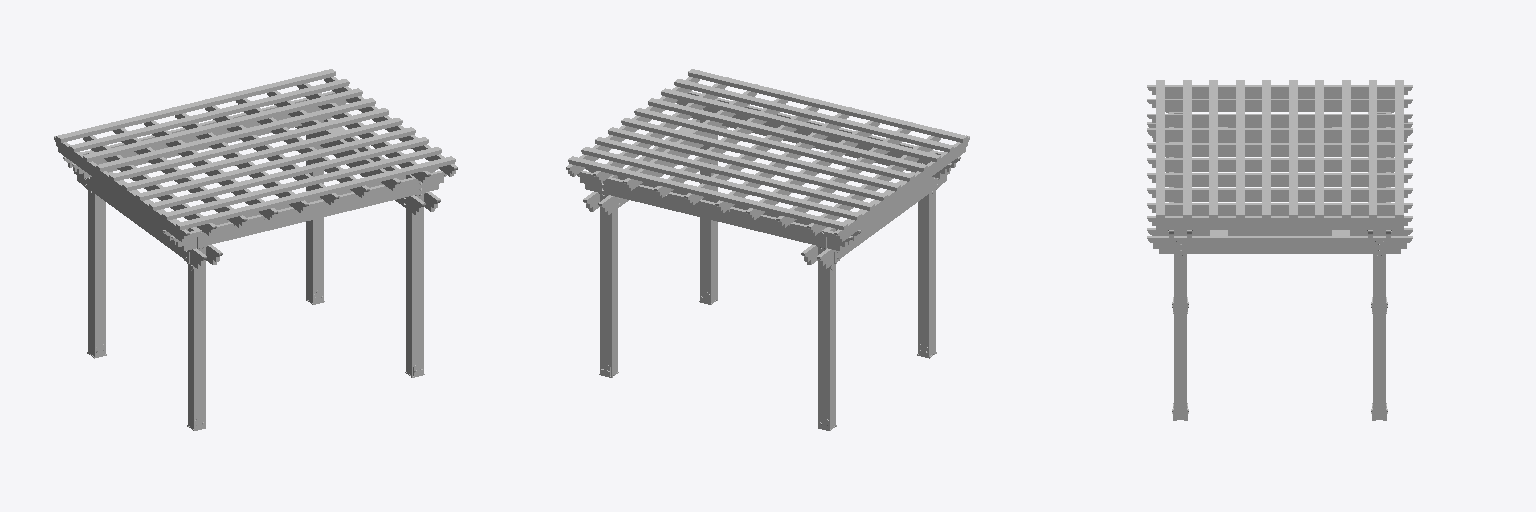
Rendered from santa-monica-10x12-3step.obj.
The picture shows the model from 3 angles: view 1: azimuth 30°, elevation 25°; view 2: azimuth 150°, elevation 25°; view 3: azimuth 270°, elevation 25°; orthographic projection.
Visible parts, largest first — view 1: Mesh142 Component_21_3 Group35 Group1 Model, Mesh178 Component_95_3 Group1 Model, Mesh167 Component_95_2 Group1 Model, Mesh160 Component_95_1 Group1 Model, Mesh166 Component_4_3 Group1 Model, Mesh174 Component_4_8 Group1 Model, Mesh175 Component_4_9 Group1 Model, Mesh165 Component_4_2 Group1 Model, Mesh168 Component_4_4 Group1 Model, Mesh169 Component_4_5 Group1 Model, Mesh172 Component_4_6 Group1 Model, Mesh183 Component_4_10 Group1 Model (+16 smaller); view 2: Mesh158 Component_21_4 Group39 Group1 Model, Mesh186 Component_95_4 Group1 Model, Mesh160 Component_95_1 Group1 Model, Mesh167 Component_95_2 Group1 Model, Mesh166 Component_4_3 Group1 Model, Mesh174 Component_4_8 Group1 Model, Mesh175 Component_4_9 Group1 Model, Mesh165 Component_4_2 Group1 Model, Mesh172 Component_4_6 Group1 Model, Mesh173 Component_4_7 Group1 Model, Mesh168 Component_4_4 Group1 Model, Mesh183 Component_4_10 Group1 Model (+16 smaller); view 3: Mesh126 Component_8_2 Group30 Group1 Model, Mesh157 Component_12_10 Group38 Group1 Model, Mesh94 Component_12_1 Group22 Group1 Model, Mesh109 Component_12_4 Group25 Group1 Model, Mesh114 Component_12_5 Group26 Group1 Model, Mesh120 Component_12_6 Group28 Group1 Model, Mesh125 Component_12_7 Group29 Group1 Model, Mesh147 Component_12_8 Group36 Group1 Model, Mesh152 Component_12_9 Group37 Group1 Model, Mesh99 Component_12_2 Group23 Group1 Model, Mesh104 Component_12_3 Group24 Group1 Model, Mesh186 Component_95_4 Group1 Model (+12 smaller).
Part boxes in pixels (x1,y1,x2,y2): Mesh142 Component_21_3 Group35 Group1 Model: (171,171,446,250); Mesh178 Component_95_3 Group1 Model: (406,174,423,376); Mesh167 Component_95_2 Group1 Model: (188,227,205,429); Mesh160 Component_95_1 Group1 Model: (88,152,105,356); Mesh166 Component_4_3 Group1 Model: (122,118,402,190); Mesh174 Component_4_8 Group1 Model: (136,127,415,200); Mesh175 Component_4_9 Group1 Model: (149,137,428,210); Mesh165 Component_4_2 Group1 Model: (56,69,335,142); Mesh168 Component_4_4 Group1 Model: (109,108,388,181); Mesh169 Component_4_5 Group1 Model: (69,79,349,152); Mesh172 Component_4_6 Group1 Model: (176,156,455,229); Mesh183 Component_4_10 Group1 Model: (96,98,375,171); Mesh158 Component_21_4 Group39 Group1 Model: (577,171,852,250); Mesh186 Component_95_4 Group1 Model: (600,175,617,376); Mesh160 Component_95_1 Group1 Model: (818,227,835,429); Mesh167 Component_95_2 Group1 Model: (918,152,935,356); Mesh166 Component_4_3 Group1 Model: (634,108,914,181); Mesh174 Component_4_8 Group1 Model: (648,98,927,171); Mesh175 Component_4_9 Group1 Model: (661,88,940,161); Mesh165 Component_4_2 Group1 Model: (568,156,847,229); Mesh172 Component_4_6 Group1 Model: (688,69,967,142); Mesh173 Component_4_7 Group1 Model: (674,79,953,152); Mesh168 Component_4_4 Group1 Model: (621,118,900,191); Mesh183 Component_4_10 Group1 Model: (608,127,887,200); Mesh126 Component_8_2 Group30 Group1 Model: (1147,236,1412,253); Mesh157 Component_12_10 Group38 Group1 Model: (1147,216,1412,229); Mesh94 Component_12_1 Group22 Group1 Model: (1147,173,1412,186); Mesh109 Component_12_4 Group25 Group1 Model: (1147,143,1412,156); Mesh114 Component_12_5 Group26 Group1 Model: (1147,85,1412,98); Mesh120 Component_12_6 Group28 Group1 Model: (1147,158,1412,171); Mesh125 Component_12_7 Group29 Group1 Model: (1147,128,1412,141); Mesh147 Component_12_8 Group36 Group1 Model: (1147,188,1412,201); Mesh152 Component_12_9 Group37 Group1 Model: (1147,203,1412,215); Mesh99 Component_12_2 Group23 Group1 Model: (1147,99,1412,111); Mesh104 Component_12_3 Group24 Group1 Model: (1147,114,1412,126); Mesh186 Component_95_4 Group1 Model: (1373,230,1385,418).
Size of the model in its own units: 144 by 108 by 120.